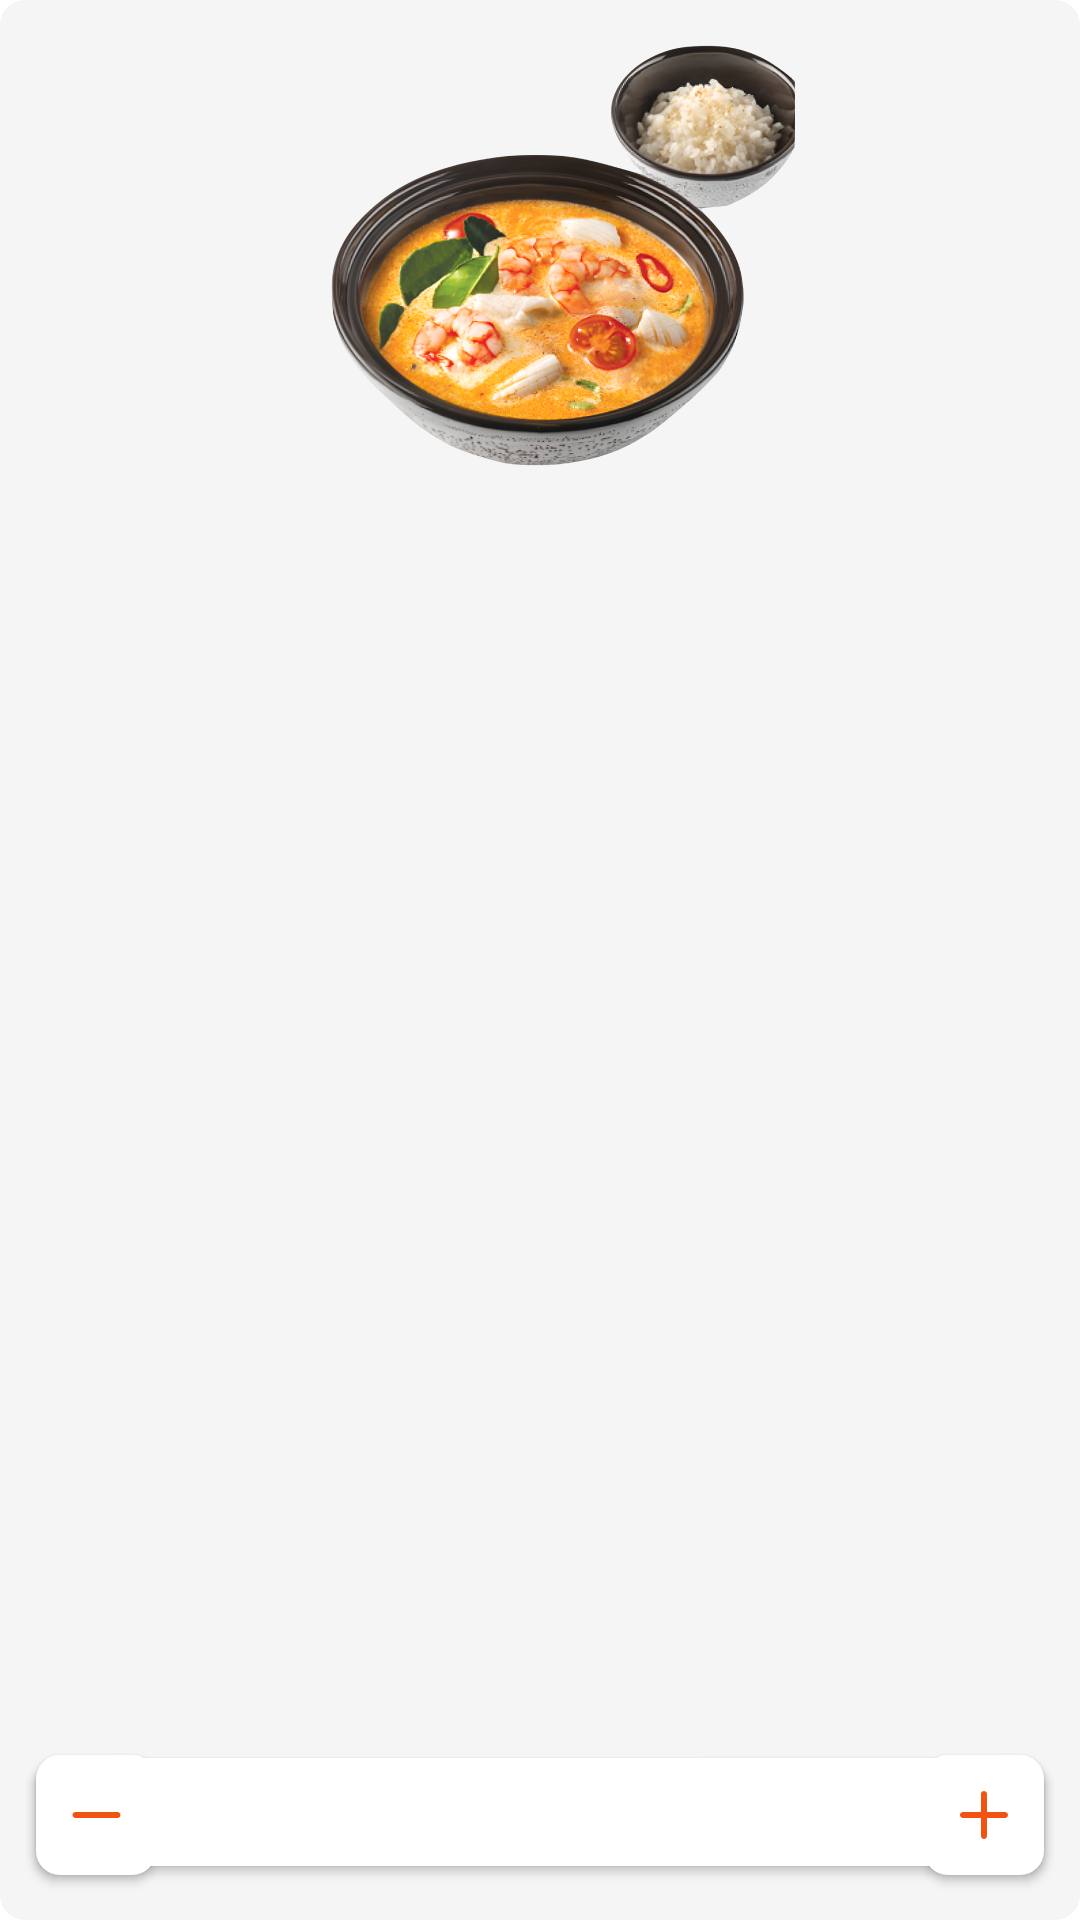

Where icons sit on this 1080px x 1920px app screen, as bbox=(x1, y1, x2, y2):
plus: bbox=(924, 1755, 1044, 1875)
